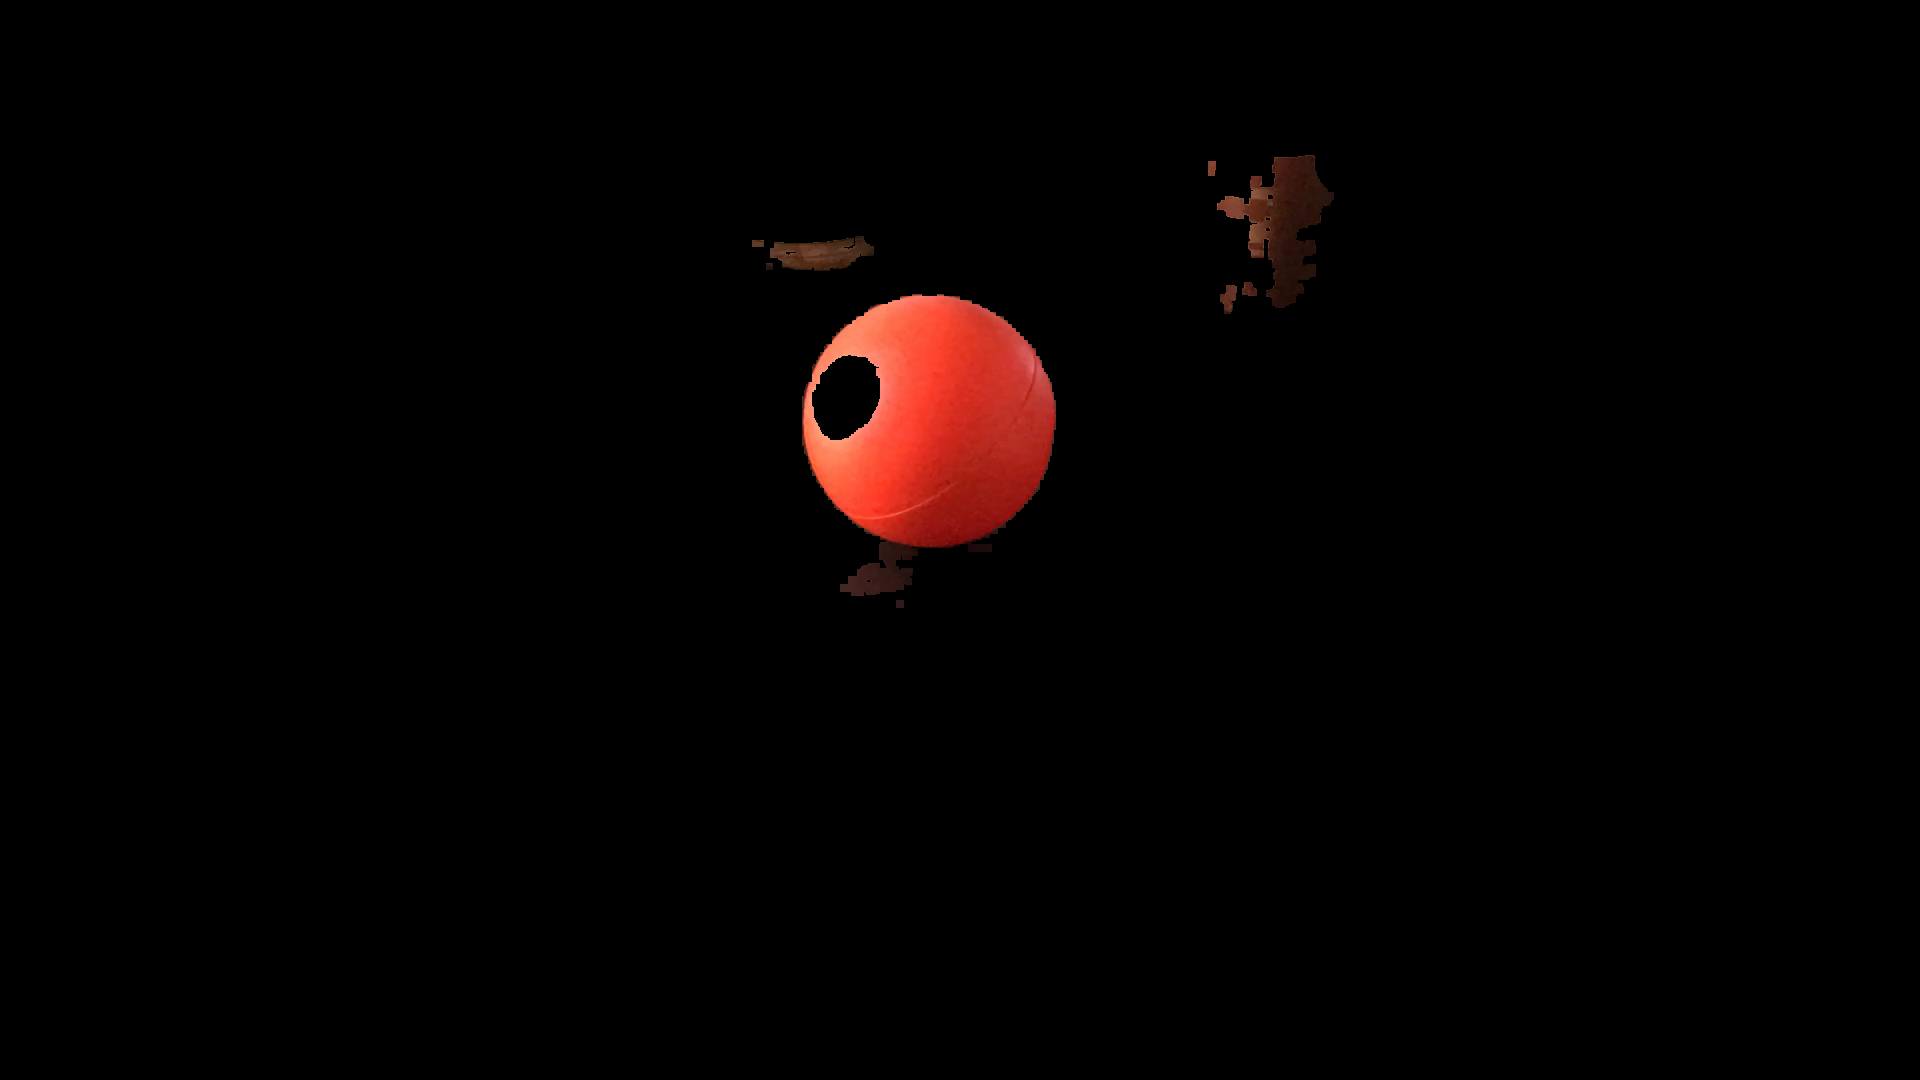Ball: (796, 294, 1056, 546)
